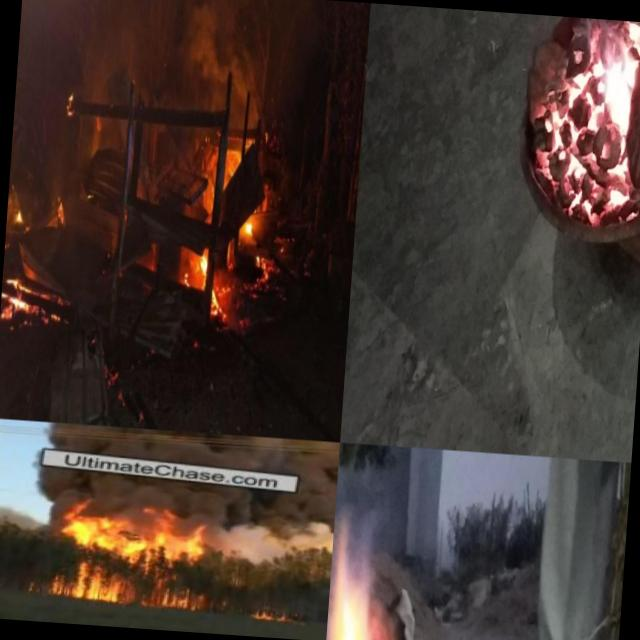fire: (533, 15, 640, 238), (56, 502, 206, 612), (325, 518, 448, 640), (1, 272, 33, 324), (246, 610, 296, 626), (240, 214, 256, 255), (192, 250, 210, 284), (64, 82, 78, 123), (11, 200, 26, 232)
smoke: (175, 0, 271, 121), (240, 492, 304, 567)
